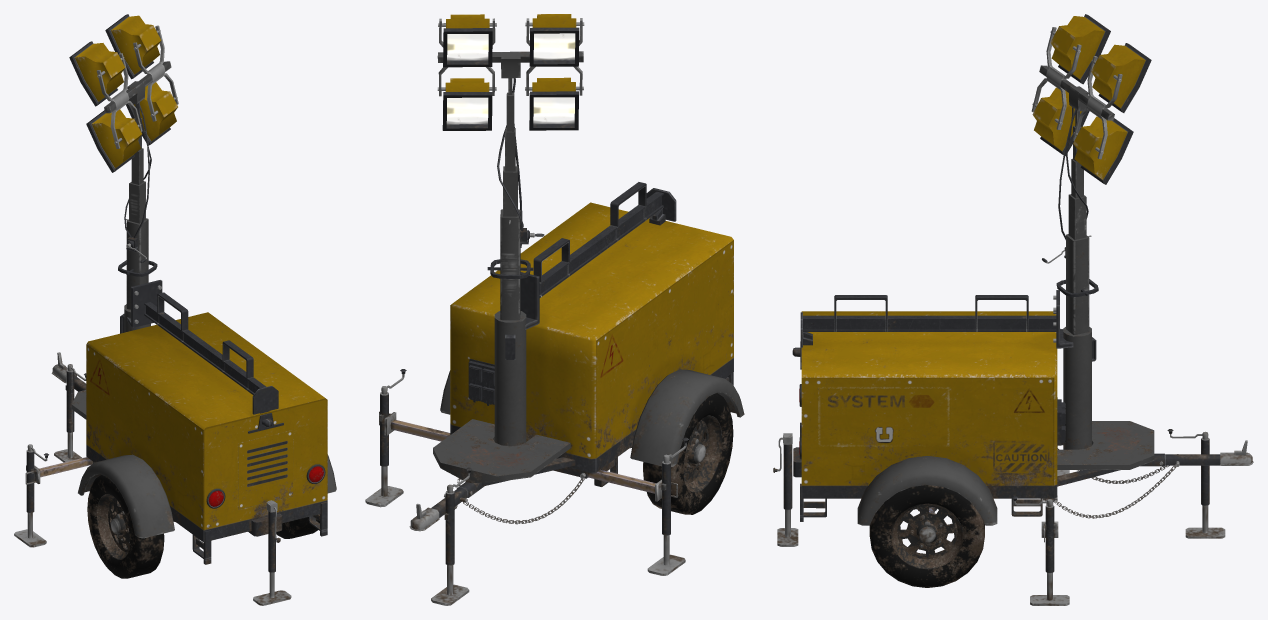
The picture shows the model from 3 angles, left to right: view 1: azimuth 30°, elevation 25°; view 2: azimuth 150°, elevation 25°; view 3: azimuth 270°, elevation 25°; orthographic projection. The views are drawn at different scales.
Parts seen in each view (by area): view 1: Lights; view 2: Lights; view 3: Lights.
Part boxes in pixels (left/top/right/bottom): Lights: left=14, top=14, right=336, bottom=605; Lights: left=365, top=14, right=744, bottom=605; Lights: left=773, top=14, right=1253, bottom=605.
Bounding box in the file's own units: 1.17 × 2 × 1.76.
Materials: 1 (1 with a texture image).
